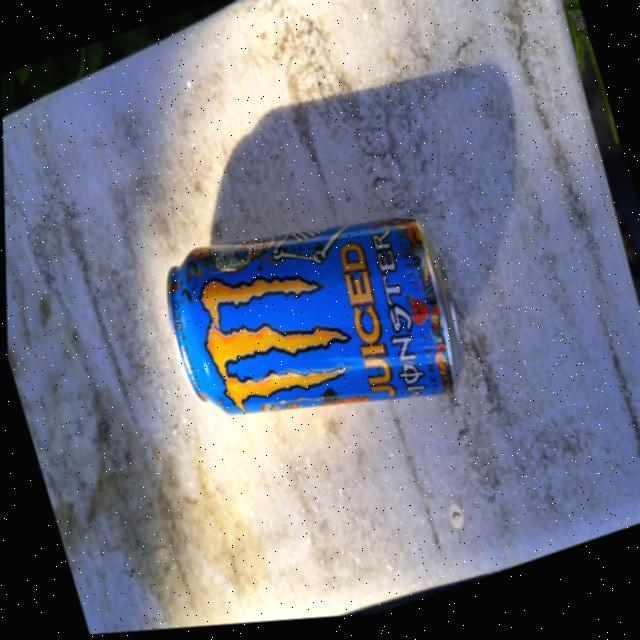Monster Mango Loco: (145, 164, 475, 487)
